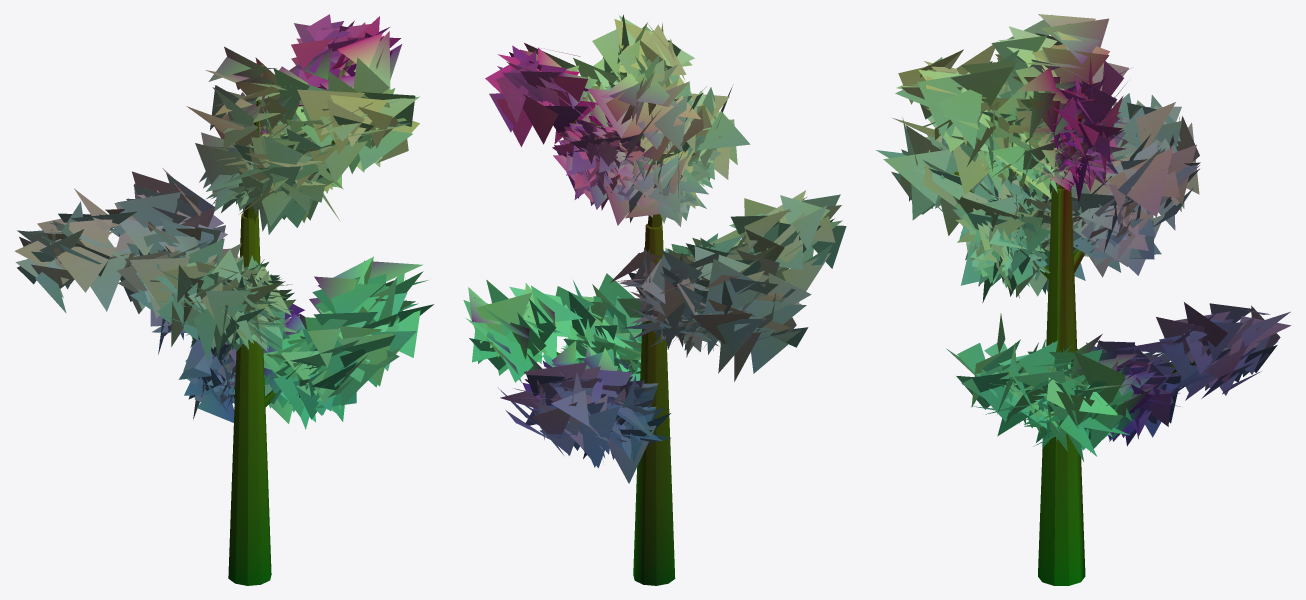
Rendered from ecological_broadleaf_young_02.glb.
3 views of the same model, side by side, from view 1: azimuth 30°, elevation 25°; view 2: azimuth 150°, elevation 25°; view 3: azimuth 270°, elevation 25° (orthographic). The views are drawn at different scales.
Visible parts, largest first — view 1: ecological_broadleaf_young_02; view 2: ecological_broadleaf_young_02; view 3: ecological_broadleaf_young_02.
Boxes of the visible parts, x1,y1,x2,y2 form: ecological_broadleaf_young_02: [14, 14, 433, 585]; ecological_broadleaf_young_02: [463, 14, 846, 585]; ecological_broadleaf_young_02: [876, 14, 1291, 585].
Bounding box in the file's own units: 8.21 × 10.58 × 7.18.
